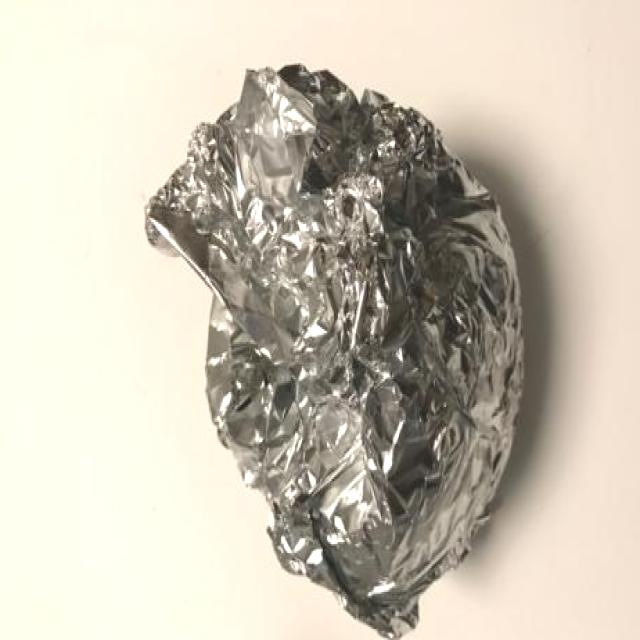kim_loai: (143, 63, 528, 640)
